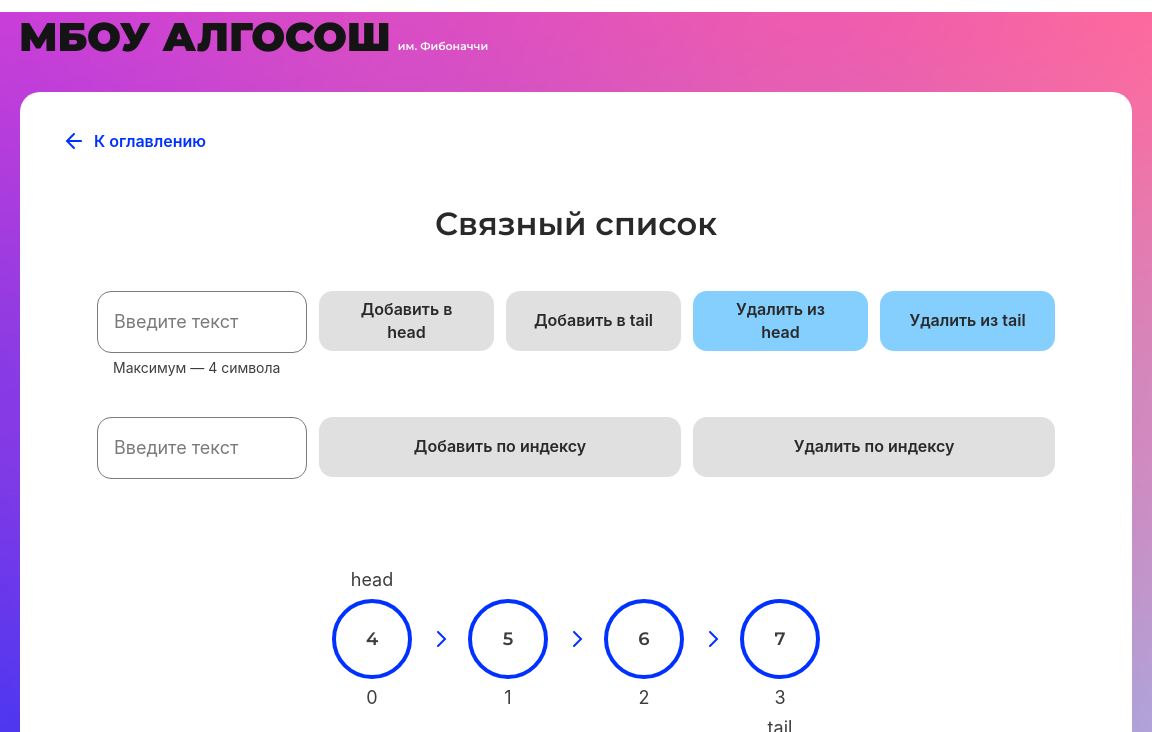
it: list works right › adding element to tail
Type "1" into the field with test id "mainInput" showing "Введите текст".
click(202, 322); type("1")  # box [97,291,307,353]
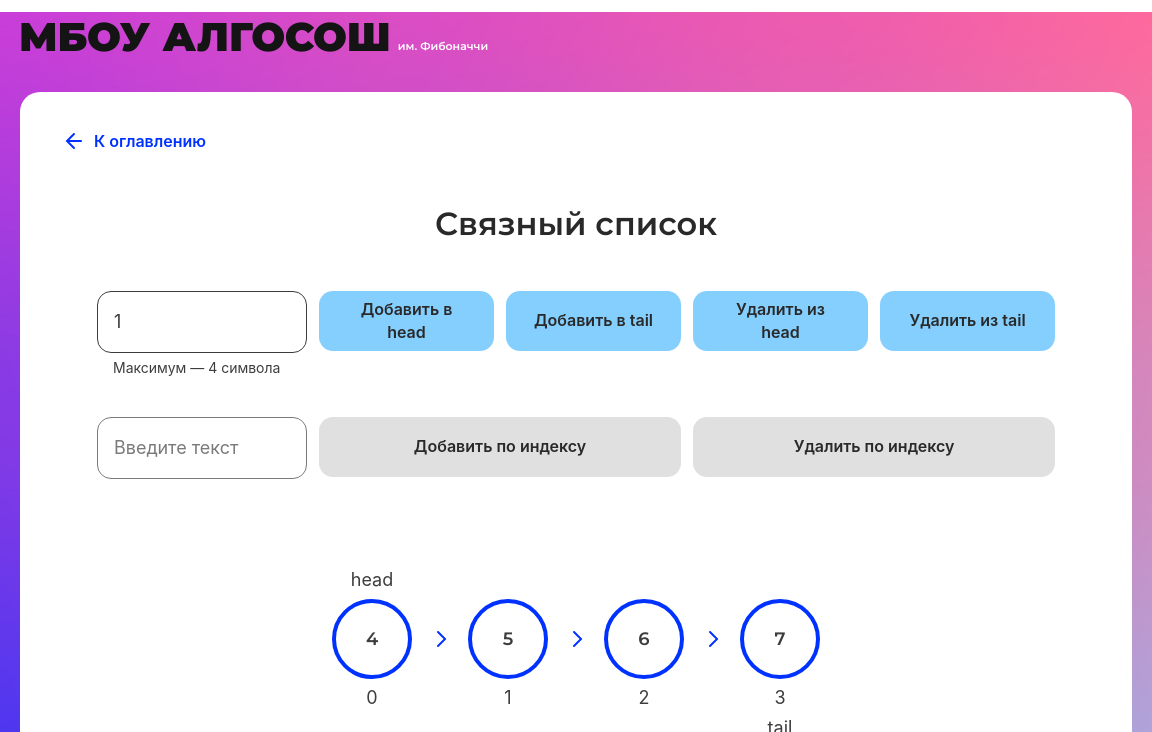
Click the button "Добавить в tail".
click(594, 321)  # box [506,291,681,351]
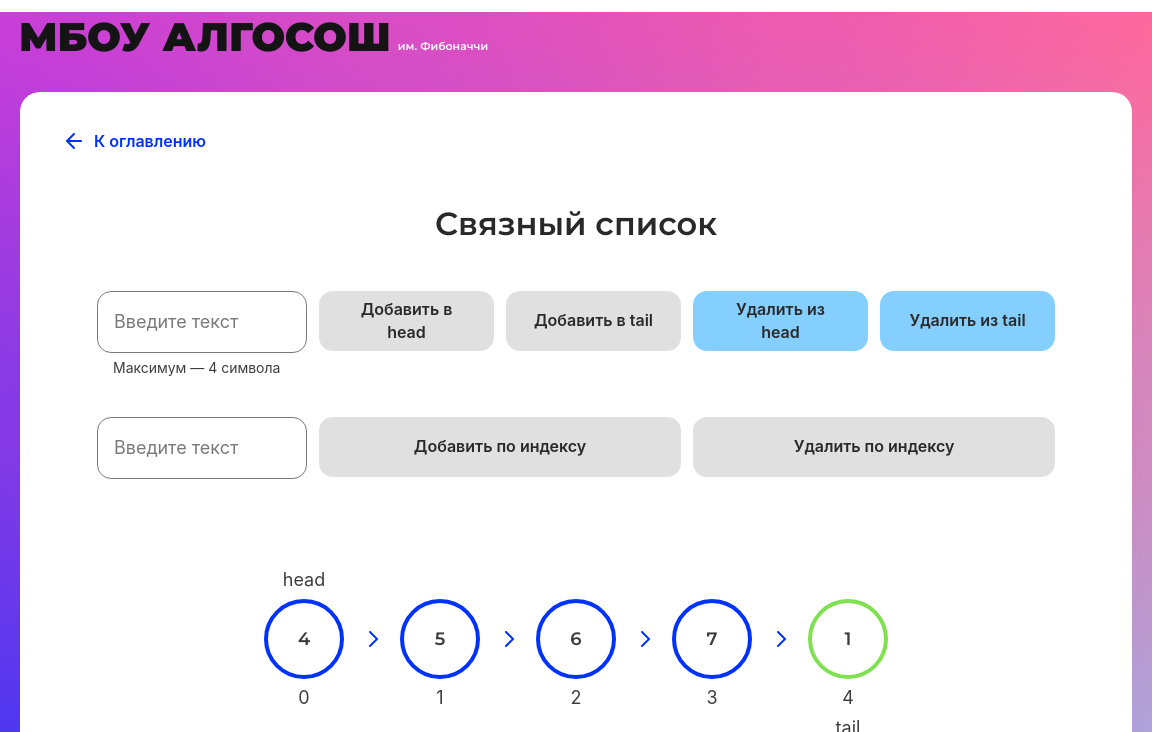
expect the text with test id "circleTail" reads "tail": met, box [836,717,861,731]
expect the text with test id "circleInsides" reads "1": met, box [845,628,852,650]
expect the 2nd text with test id "circleIndex" reads "4": met, box [842,687,854,708]
